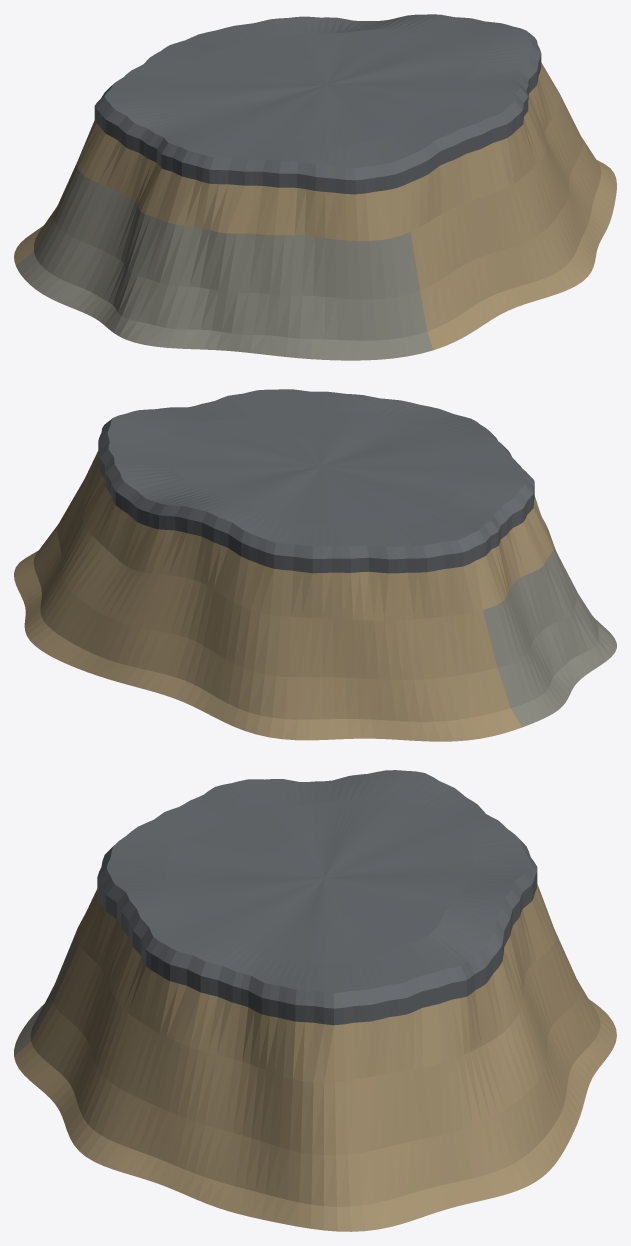
The picture shows the model from 3 angles, top to bottom: view 1: azimuth 30°, elevation 25°; view 2: azimuth 150°, elevation 25°; view 3: azimuth 270°, elevation 25°; orthographic projection. The views are drawn at different scales.
Visible parts, largest first — view 1: flat_top_subglacial_tuya_coherent_lava_cap_tuff_breccia_pill; view 2: flat_top_subglacial_tuya_coherent_lava_cap_tuff_breccia_pill; view 3: flat_top_subglacial_tuya_coherent_lava_cap_tuff_breccia_pill.
Part boxes in pixels (x1=…): flat_top_subglacial_tuya_coherent_lava_cap_tuff_breccia_pill: x1=14, y1=14, x2=616, y2=360; flat_top_subglacial_tuya_coherent_lava_cap_tuff_breccia_pill: x1=14, y1=389, x2=616, y2=741; flat_top_subglacial_tuya_coherent_lava_cap_tuff_breccia_pill: x1=14, y1=770, x2=616, y2=1231.
Bounding box in the file's own units: 1234 × 355 × 986.
